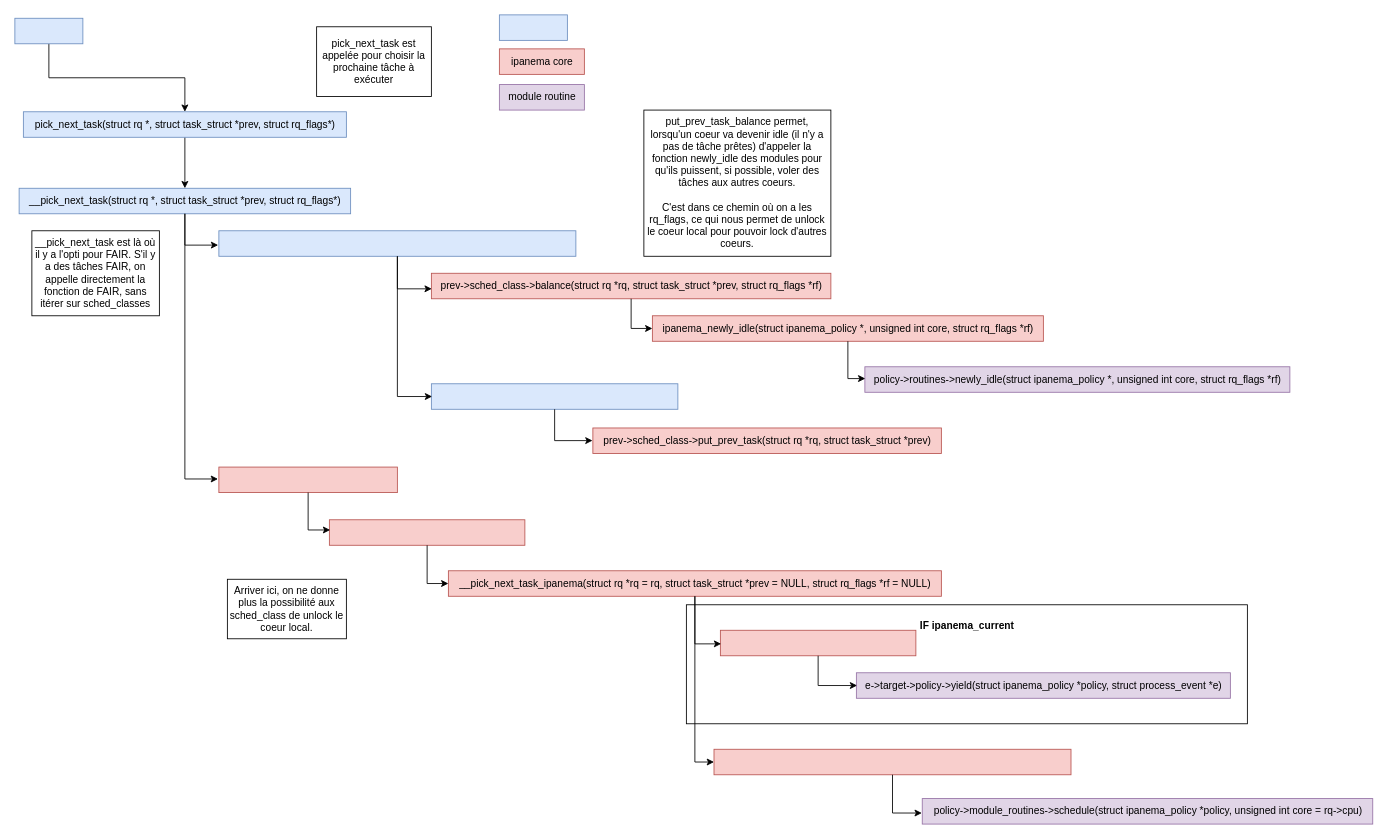
This 1388x839 diagram has some shape labels left out. The shapes that lost their labels are listed below. From the top down, each one's centre as x and y in pixels, then its label:
the point at 48,30: __schedule
the point at 533,27: sched core
the point at 397,243: put_prev_task_balance(struct rq*, struct task_struct *prev, struct rq_flags*)
the point at 554,396: put_prev_task(struct rq *, struct task_struct *prev)
the point at 307,479: classes->pick_next_task(struct rq *)
the point at 427,532: pick_next_task_ipanema(struct rq *rq)
the point at 818,642: ipanema_yield(struct process_event *e)
the point at 892,761: ipanema_schedule(struct ipanema_policy *policy, unsigned core = rq->cpu)
